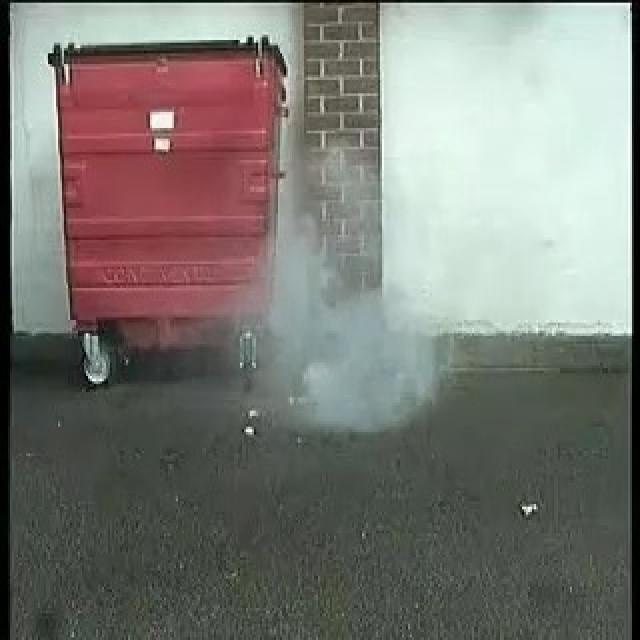smoke: (268, 205, 441, 427)
